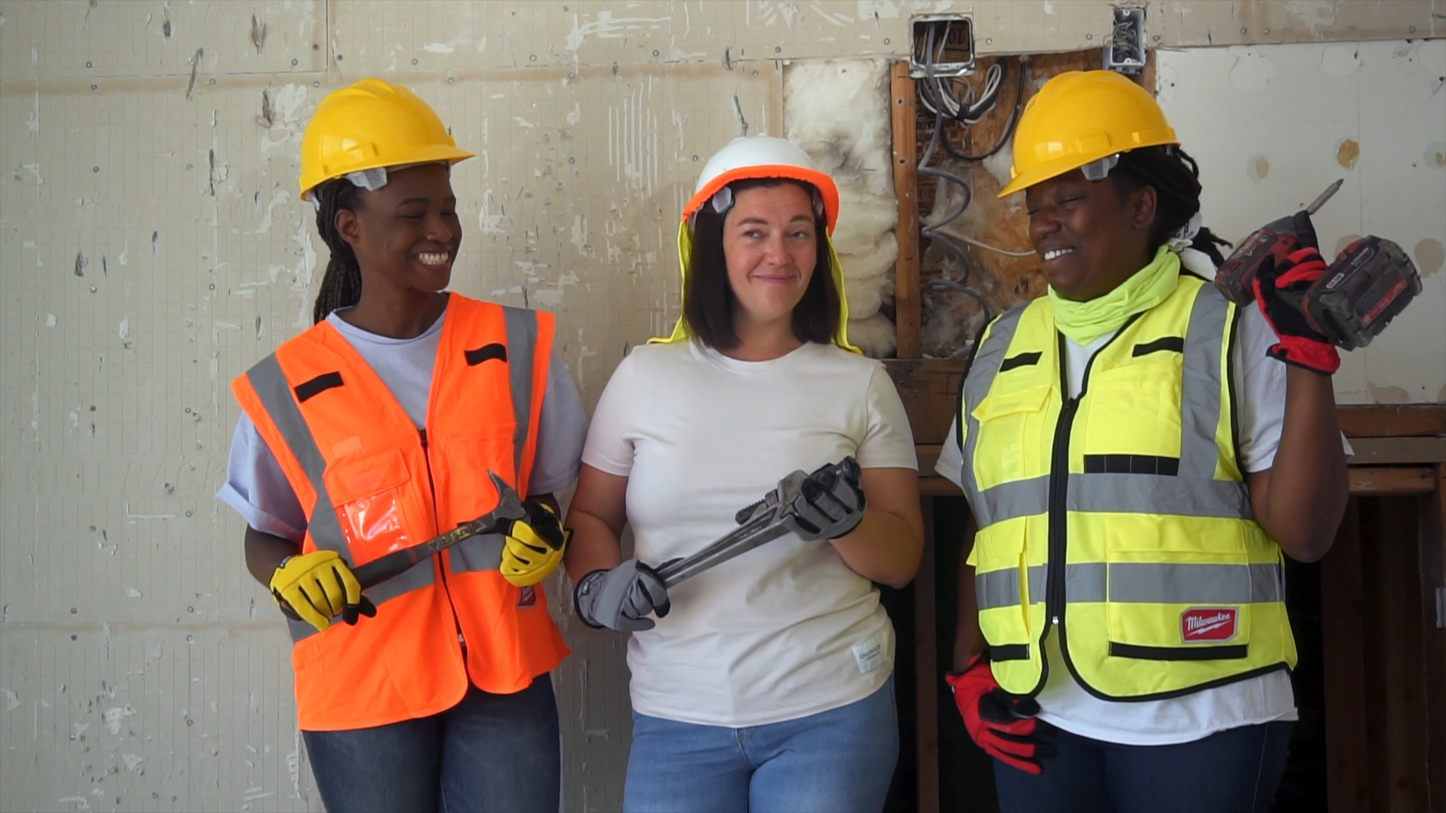gloves: (1236, 227, 1359, 384), (930, 657, 1071, 787), (741, 454, 899, 548), (259, 543, 388, 646), (482, 483, 574, 623), (578, 565, 689, 644)
